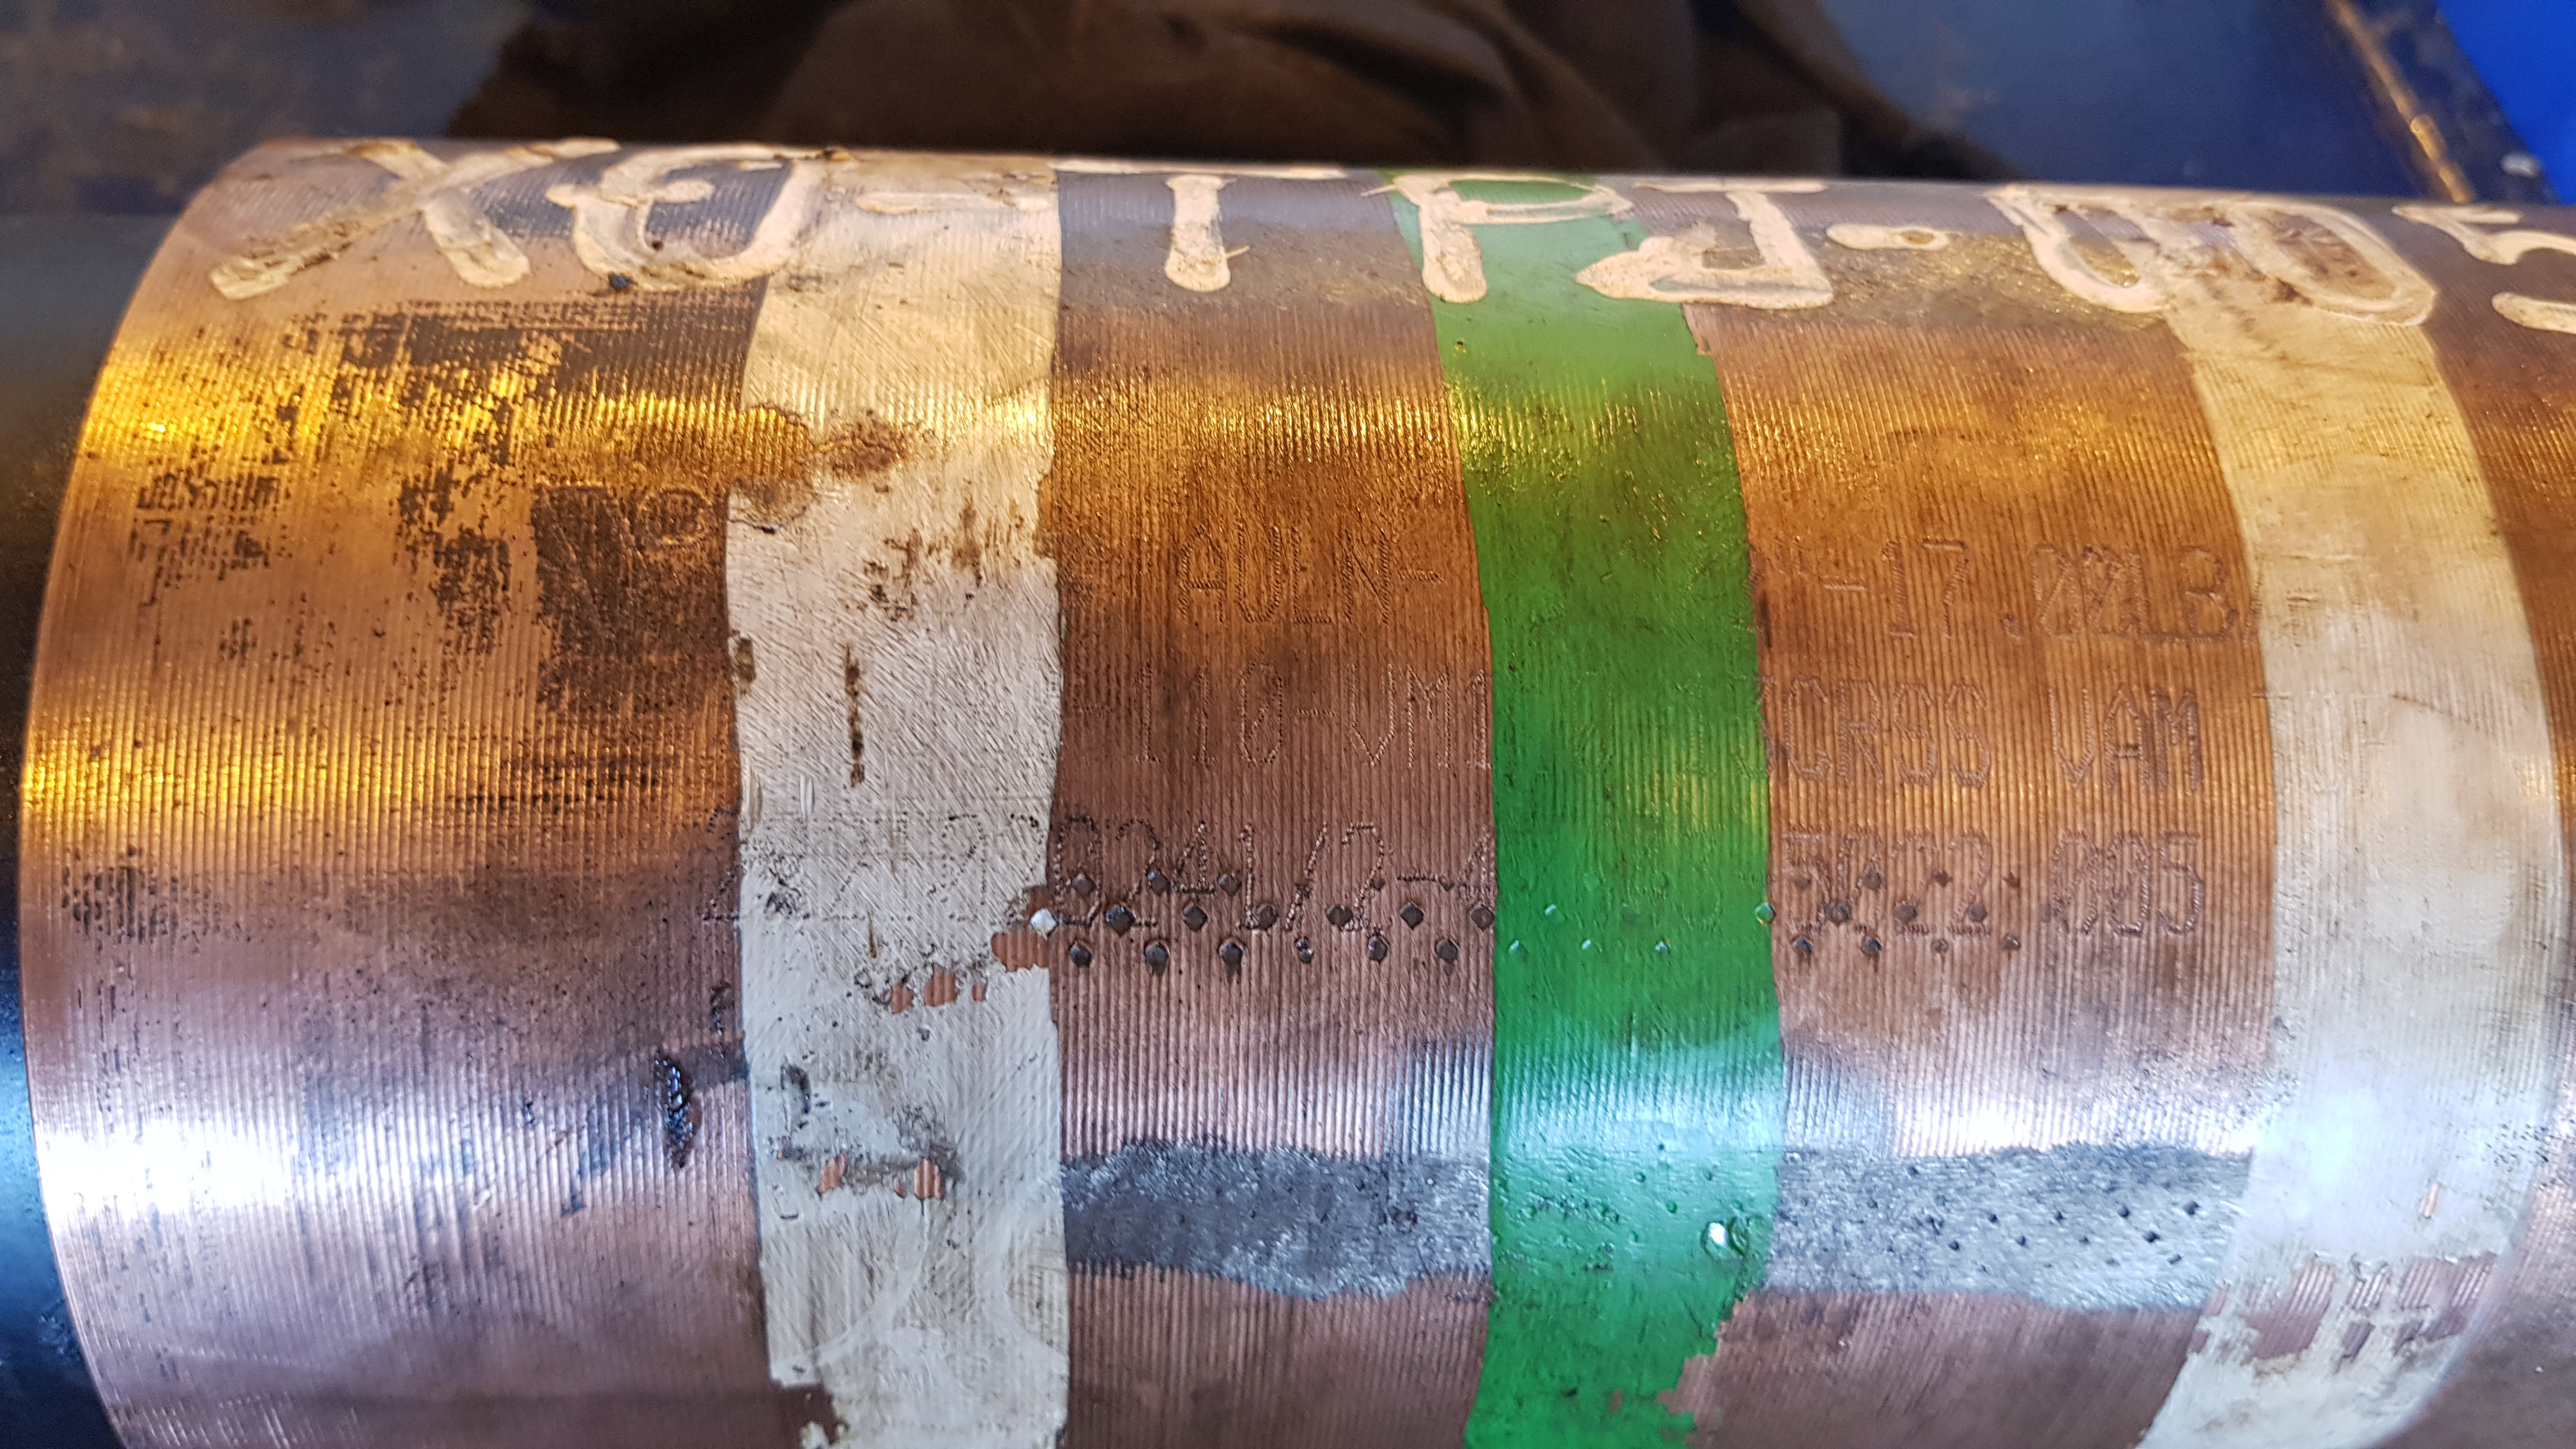character: (2141, 683, 2212, 800), (2091, 679, 2160, 794), (2169, 534, 2240, 646), (1829, 672, 1891, 794), (2045, 828, 2107, 941), (1336, 522, 1396, 635), (1941, 678, 1999, 789), (2100, 826, 2155, 943), (2040, 681, 2100, 787), (1888, 681, 1944, 793), (1341, 817, 1394, 936), (1783, 678, 1840, 787), (1343, 656, 1398, 770), (2077, 541, 2135, 648), (2157, 826, 2210, 943), (1168, 520, 1230, 619), (1833, 819, 1886, 932), (1111, 821, 1168, 927), (996, 805, 1046, 925), (1401, 662, 1456, 770), (1233, 660, 1290, 764), (1921, 534, 1976, 640), (1891, 823, 1939, 941), (1230, 522, 1283, 628), (936, 810, 984, 927), (1166, 819, 1221, 920), (1056, 816, 1106, 927), (1730, 669, 1778, 784), (1872, 538, 1923, 644), (2026, 538, 2077, 642), (1288, 520, 1336, 626), (2125, 543, 2174, 644), (1454, 817, 1500, 925), (1953, 826, 1997, 938), (1787, 824, 1833, 927), (1233, 819, 1274, 934), (1182, 660, 1219, 782), (1681, 672, 1716, 784), (1461, 665, 1495, 777)
